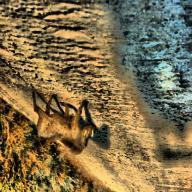boar: (32, 91, 96, 154)
